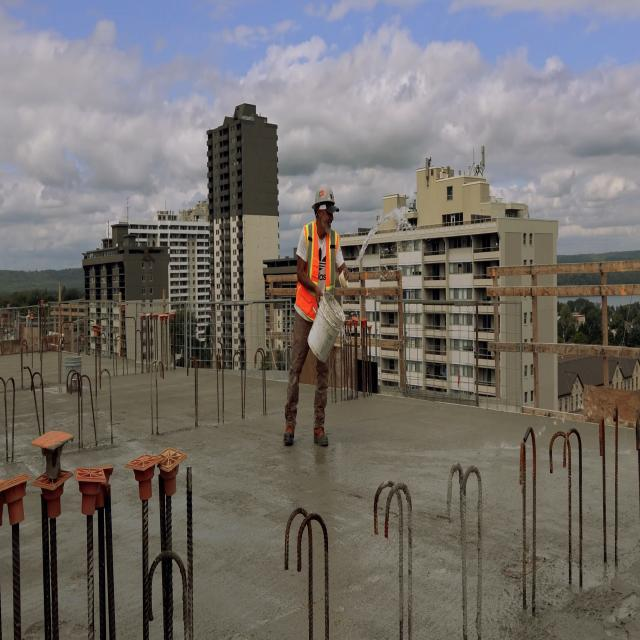Boots: (314, 418, 330, 453), (286, 422, 296, 447)
Helmet: (312, 185, 338, 212)
Vest: (294, 221, 338, 323)
